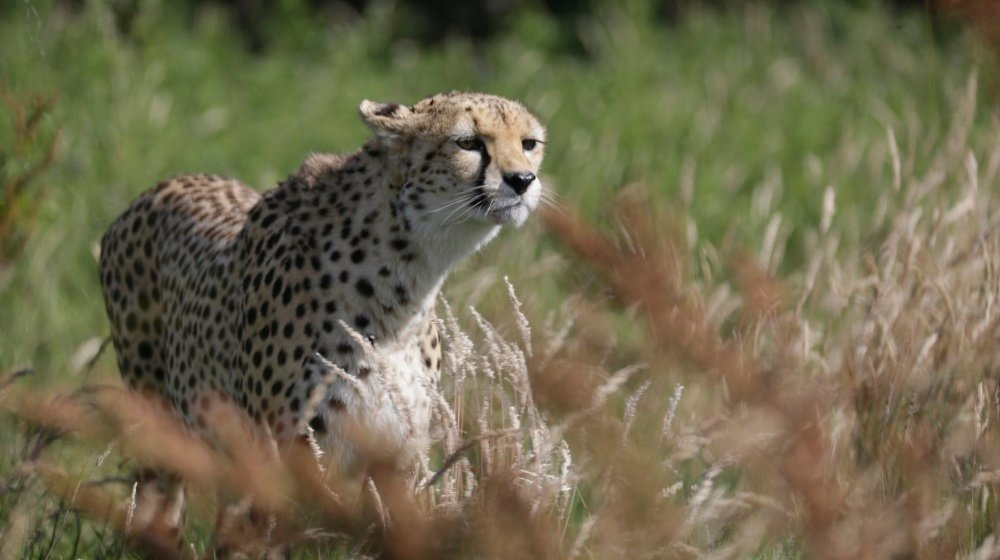cheetah: (346, 76, 557, 251)
